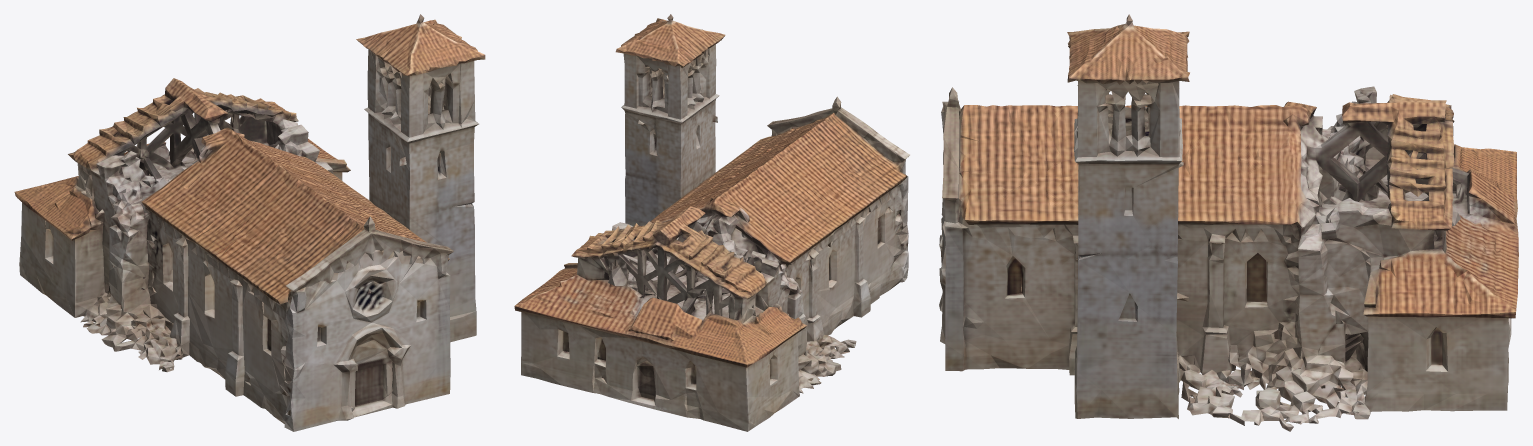
Rendered from it_church.obj.
The picture shows the model from 3 angles, left to right: view 1: azimuth 30°, elevation 25°; view 2: azimuth 150°, elevation 25°; view 3: azimuth 270°, elevation 25°; orthographic projection. The views are drawn at different scales.
Parts seen in each view (by area): view 1: it_church; view 2: it_church; view 3: it_church.
Part boxes in pixels (<box>): it_church: <box>14,14,485,431</box>; it_church: <box>514,14,909,431</box>; it_church: <box>939,14,1518,431</box>.
Bounding box in the file's own units: 14.96 × 14.73 × 20.
Materials: 1 (1 with a texture image).
